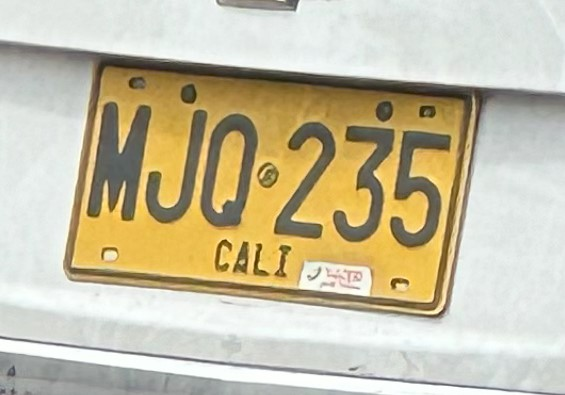number plate: (65, 64, 478, 314)
